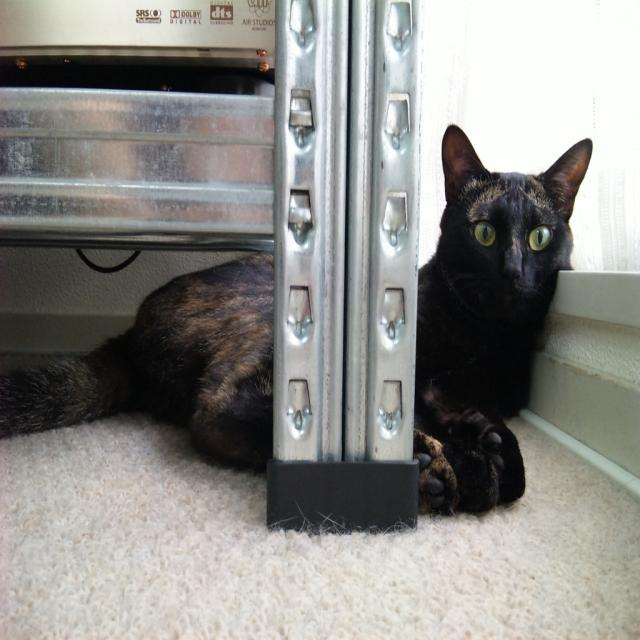Cat: (0, 122, 593, 514)
